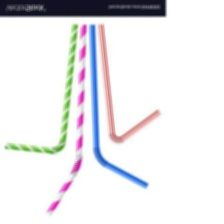drinking_straw: (85, 24, 151, 193), (1, 21, 79, 157), (39, 24, 91, 220), (95, 24, 163, 147)
